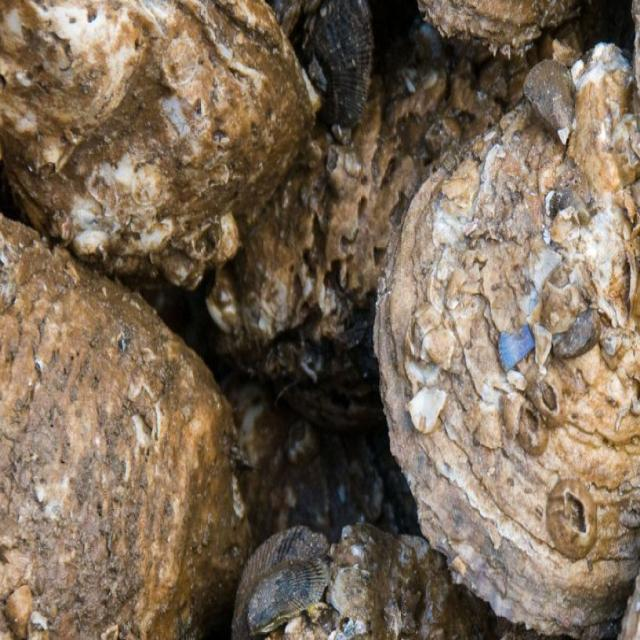Oyster-Indeterminate: (372, 48, 640, 638), (209, 18, 587, 431), (0, 214, 252, 640), (0, 0, 317, 289), (220, 373, 420, 555), (271, 525, 574, 640), (232, 527, 330, 640), (299, 0, 372, 126), (417, 0, 582, 53), (248, 558, 327, 632), (523, 61, 573, 140)
